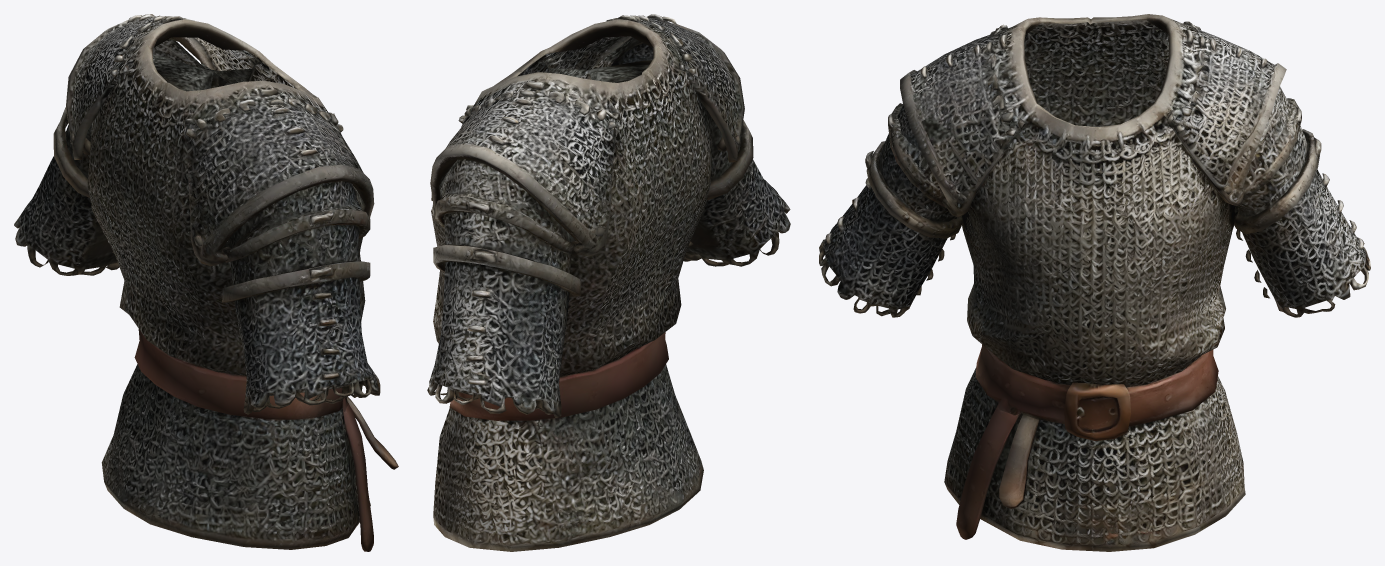
The picture shows the model from 3 angles, left to right: view 1: azimuth 30°, elevation 25°; view 2: azimuth 150°, elevation 25°; view 3: azimuth 270°, elevation 25°; orthographic projection. The views are drawn at different scales.
Visible parts, largest first — view 1: tripo_node_48d2b262-bcbc-44fe-82d1-2e385036eec8; view 2: tripo_node_48d2b262-bcbc-44fe-82d1-2e385036eec8; view 3: tripo_node_48d2b262-bcbc-44fe-82d1-2e385036eec8.
Part boxes in pixels (left/top/right/bottom): tripo_node_48d2b262-bcbc-44fe-82d1-2e385036eec8: left=14, top=14, right=398, bottom=551; tripo_node_48d2b262-bcbc-44fe-82d1-2e385036eec8: left=427, top=14, right=790, bottom=551; tripo_node_48d2b262-bcbc-44fe-82d1-2e385036eec8: left=819, top=14, right=1370, bottom=551.
Size of the model in its own units: 0.4824 by 0.9395 by 0.998.
Materials: 1 (1 with a texture image).
